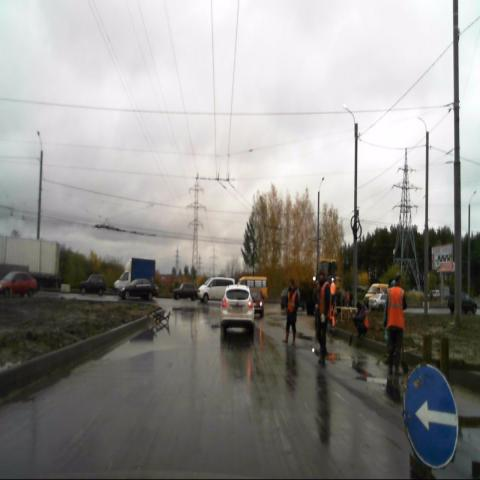4_1_2_2: (402, 361, 460, 469)
